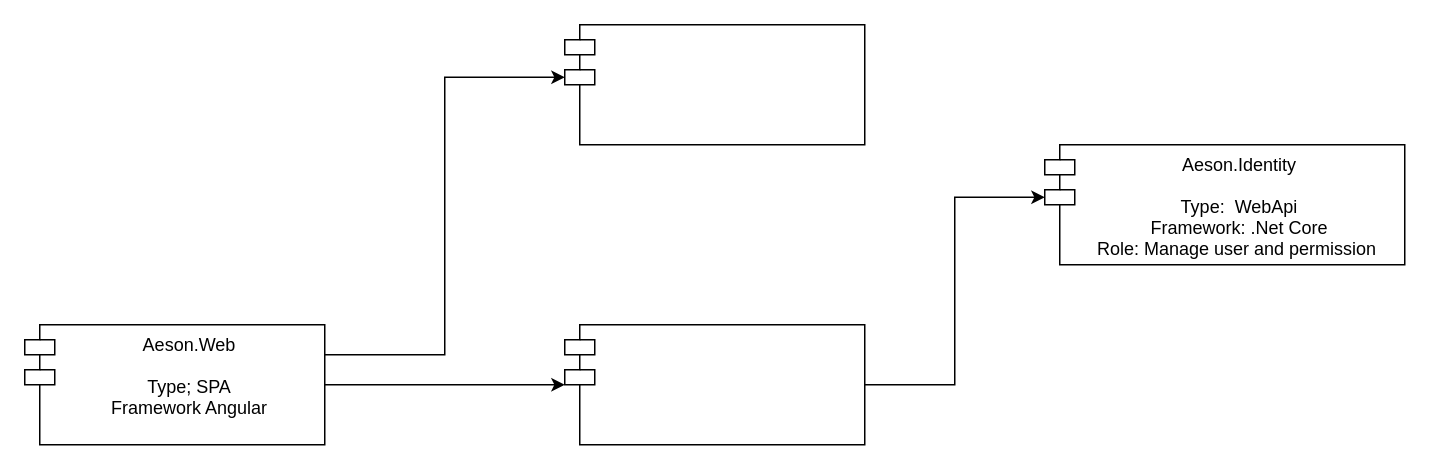
The diagram is 1430 pixels wide and 470 high, and some of its shapes have lost their labels. The centre of each missing label's shape, as x and y in pixels:
Aeson.ApiGateway Type: Web Api Framework: .net Core: point (714, 384)
OIDC Provider Type: External Framework: Azure AD, ...: point (714, 84)
